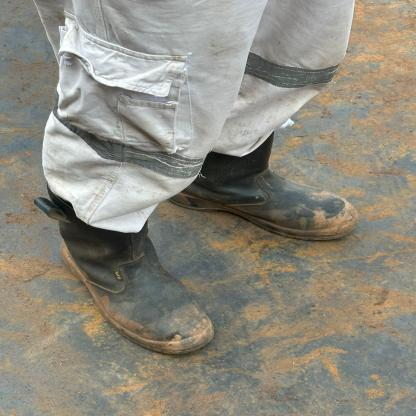bota: (38, 193, 224, 356), (174, 121, 362, 243)
